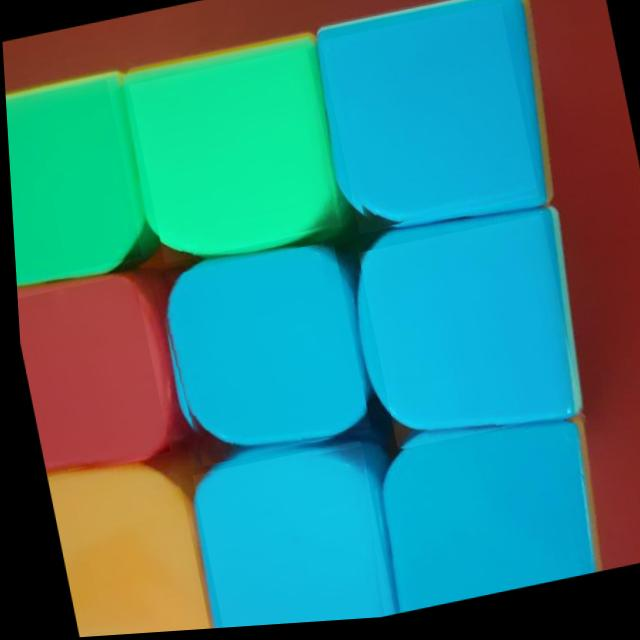Blue: (355, 221, 578, 457), (320, 9, 539, 241), (149, 245, 367, 474), (185, 443, 387, 631), (378, 437, 576, 616)
Green: (127, 51, 341, 267), (4, 79, 139, 284)
Orange: (42, 457, 203, 639)
Red: (13, 274, 165, 478)
